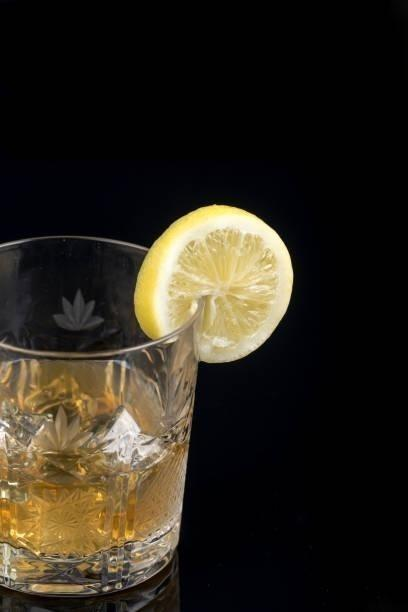glass-normal: (0, 232, 204, 604)
